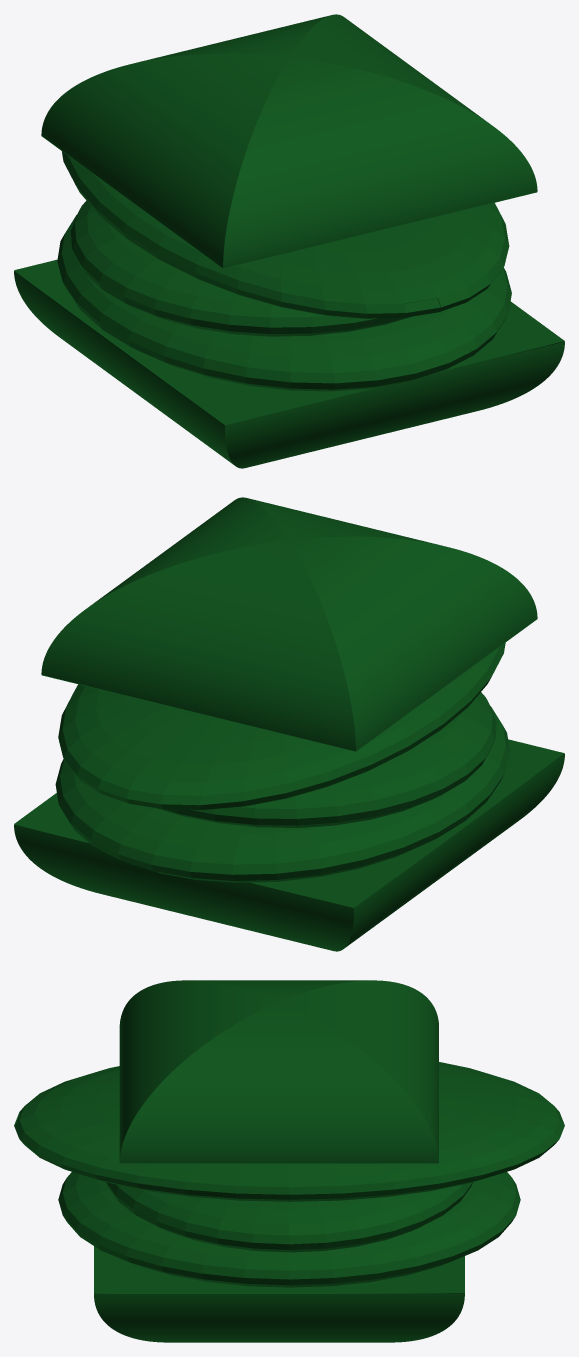
Rendered from DecayedFood.fbx.
3 renders of one model, top to bottom at view 1: azimuth 30°, elevation 25°; view 2: azimuth 150°, elevation 25°; view 3: azimuth 270°, elevation 25°, orthographic. The views are drawn at different scales.
Parts seen in each view (by area): view 1: Cube, Cube.001, Sphere.002, Sphere, Sphere.001; view 2: Cube, Sphere.002, Cube.001, Sphere, Sphere.001; view 3: Cube, Sphere.002, Cube.001, Sphere, Sphere.001.
Boxes of the visible parts, x1,y1,x2,y2 form: Cube: (41, 14, 537, 268); Cube.001: (14, 259, 564, 468); Sphere.002: (62, 151, 509, 318); Sphere: (57, 215, 511, 391); Sphere.001: (70, 201, 411, 336); Cube: (41, 497, 537, 751); Sphere.002: (58, 643, 505, 809); Cube.001: (14, 739, 564, 951); Sphere: (55, 706, 510, 882); Sphere.001: (156, 692, 496, 827); Cube: (119, 980, 438, 1163); Sphere.002: (14, 1062, 564, 1201); Cube.001: (94, 1246, 464, 1342); Sphere: (58, 1172, 520, 1287); Sphere.001: (105, 1182, 473, 1252).
Size of the model in its own units: 200 by 185 by 292.
